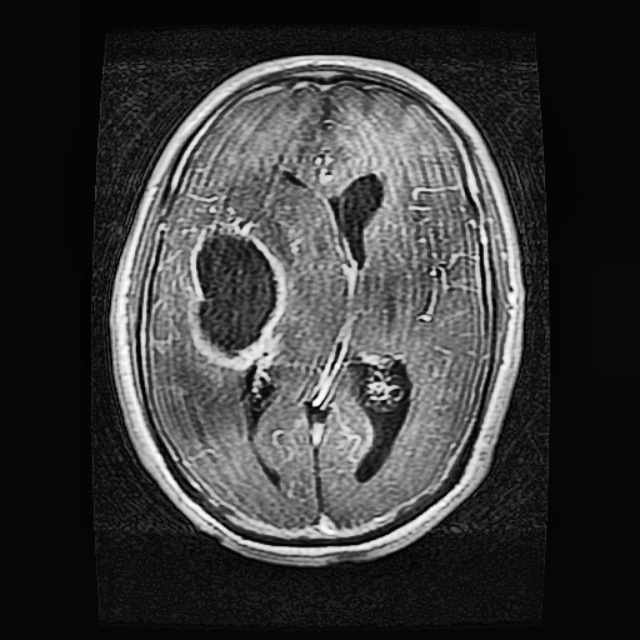Pituitary: (185, 220, 287, 373)
